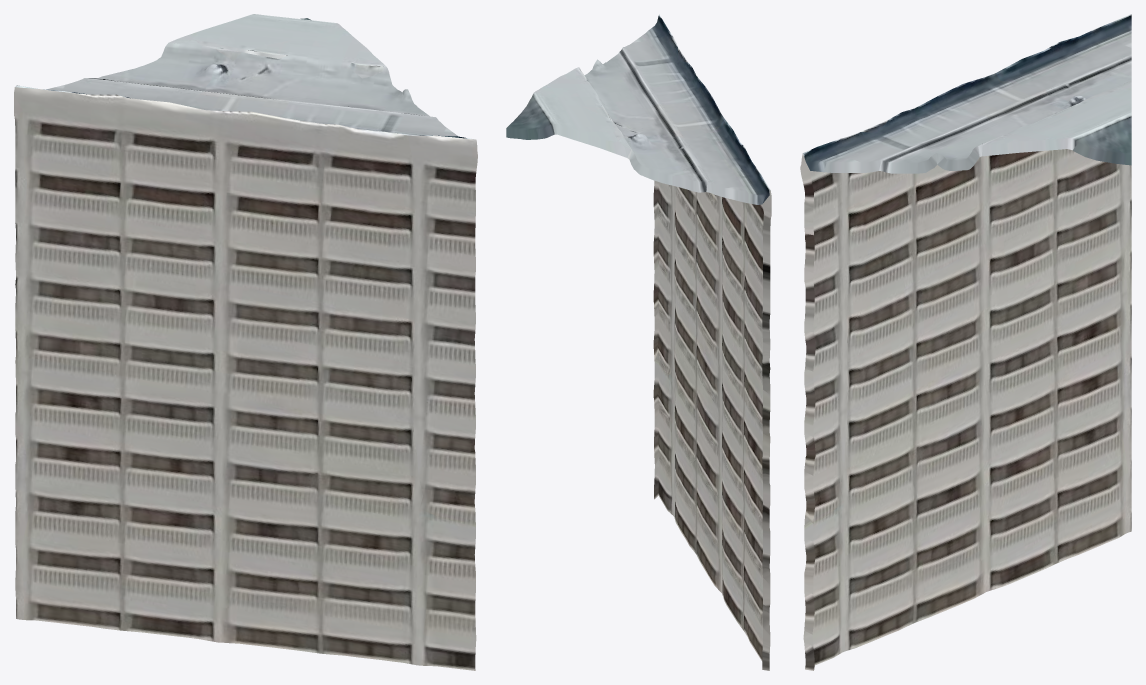
Rendered from z20-167785-405225-h1-yup-uvflip-v3-world.glb.
3 views of the same model, side by side, from view 1: azimuth 30°, elevation 25°; view 2: azimuth 150°, elevation 25°; view 3: azimuth 270°, elevation 25° (orthographic). The views are drawn at different scales.
Size of the model in its own units: 17.4 by 31.08 by 17.52.
Materials: 1 (1 with a texture image).
